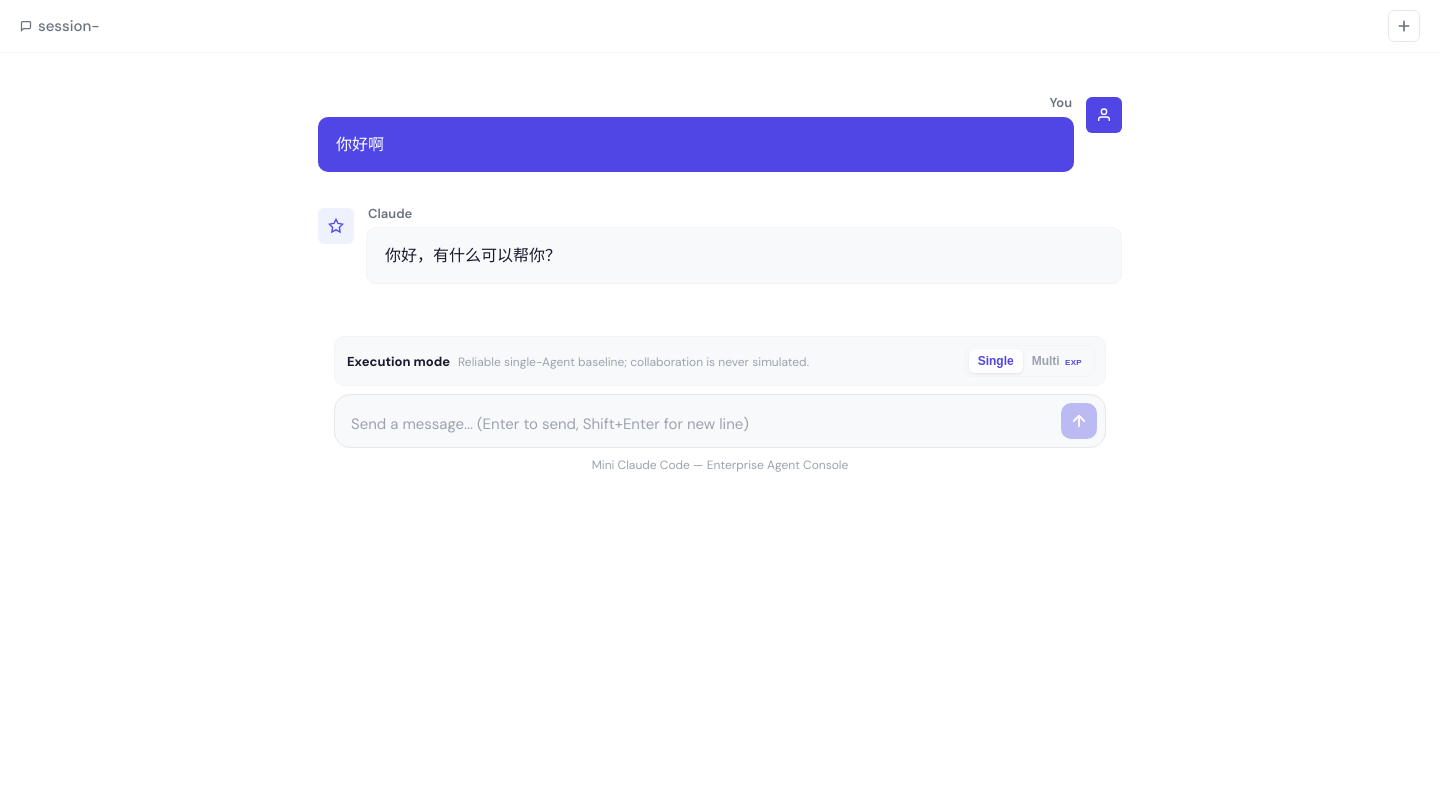
it: ChatPanel session history restoration › unlocks immediately when an HTTP request is rejected before task_started
The image size is (1440, 810).
Type "超出额度的请求" into the text box with placeholder "Send a message... (Enter to send, Shift+Enter for new line)". click: (702, 424)
box: [351,409,1053,439]
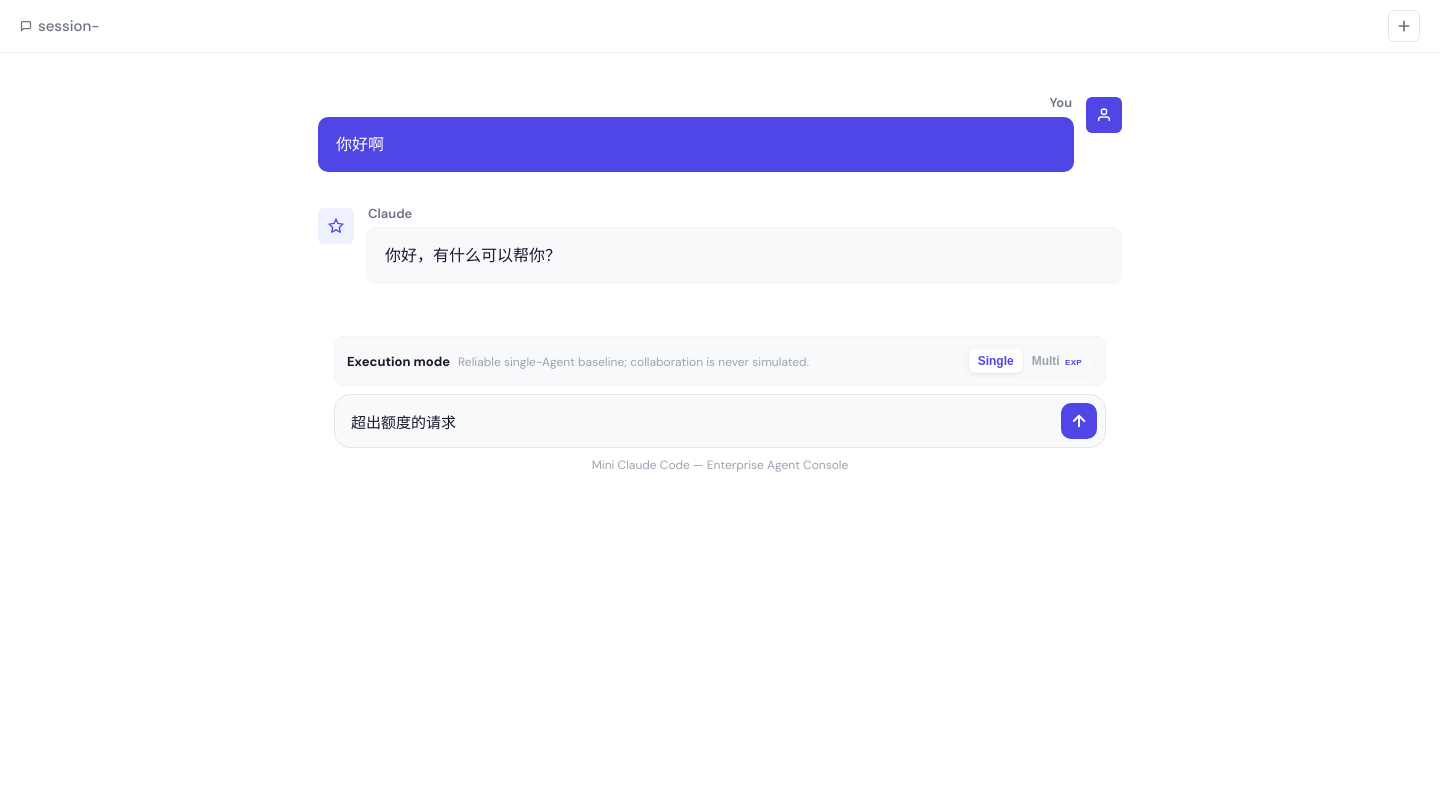
Click the button with class "btn-send". click: click(1079, 421)
box: [1061,403,1097,439]
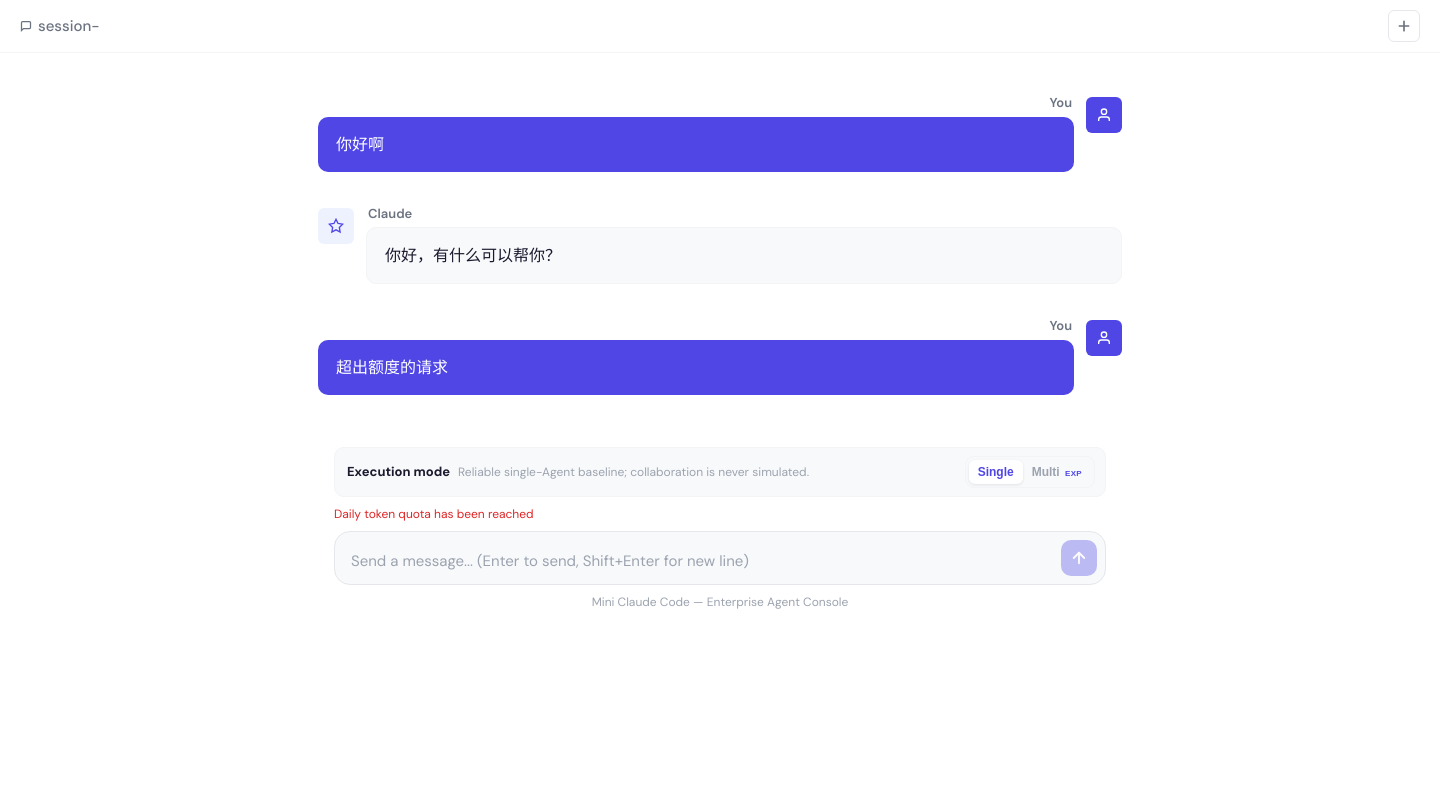
Expected: the text box with placeholder "Send a message... (Enter to send, Shift+Enter for new line)" is enabled, [351,546,1053,576]
Now the text "Daily token quota has been reached" is shown, box [334,506,534,522]
